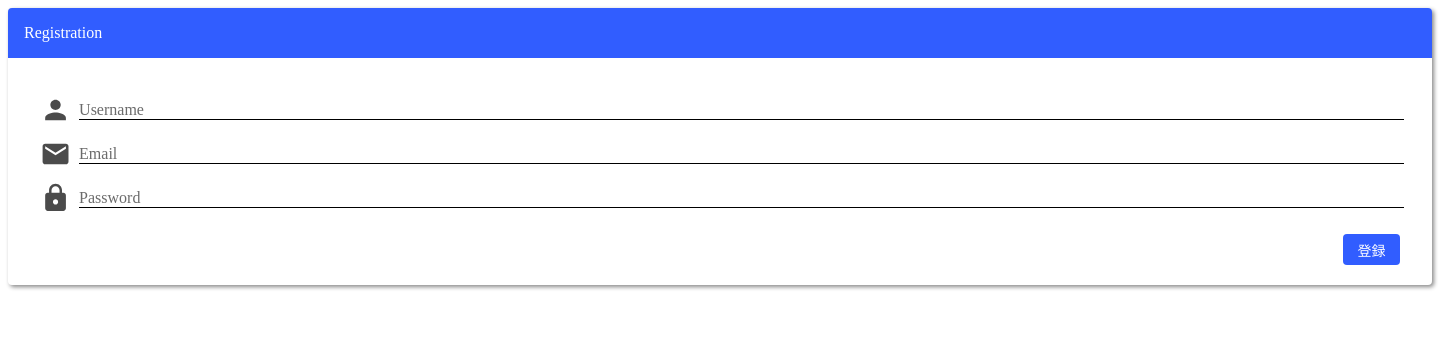
Test: RegisterForm › メールアドレスの形式が正しくない場合にバリデーションエラーが発生する
In the field labelled "Email": coordinates (742, 154) [79,144,1404,164], type "test"
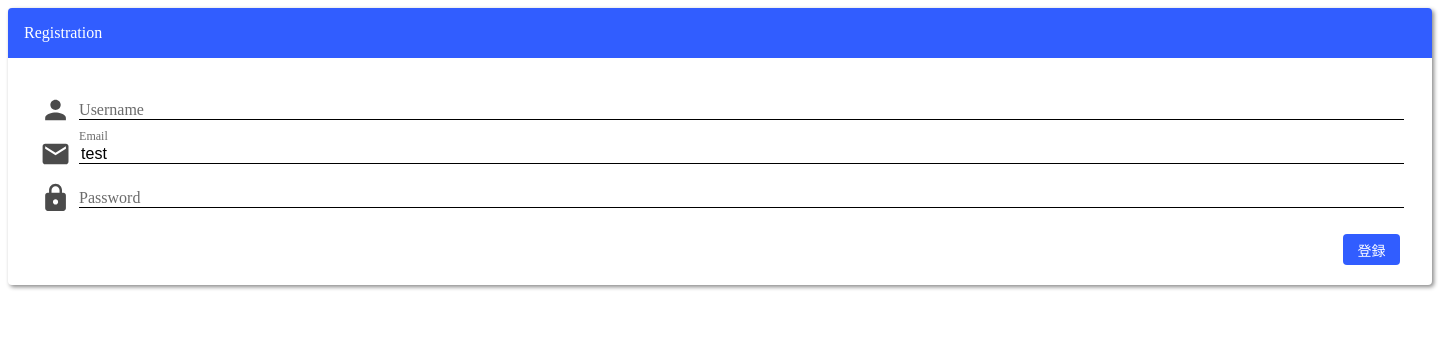
Click the button "登録": coordinates (1372, 250) [1343,234,1400,265]
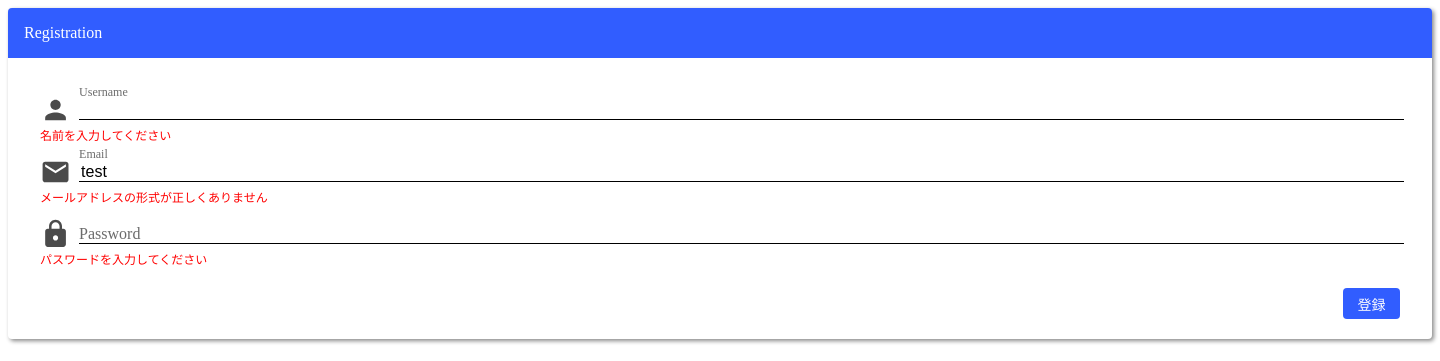
Result: the text "メールアドレスの形式が正しくありません" is shown at [40,191,268,205]
